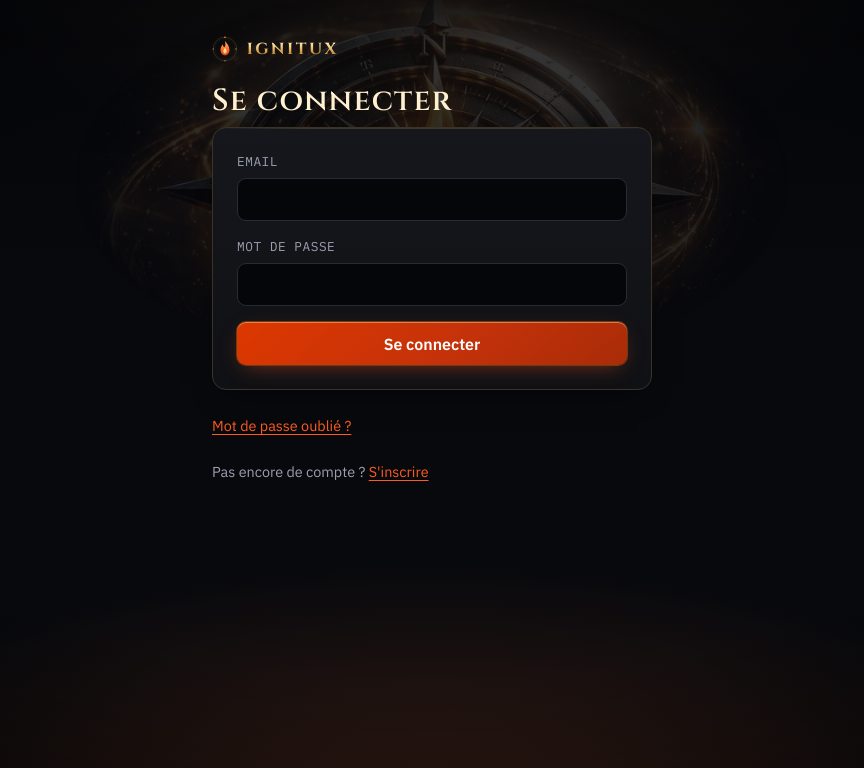
Scenario: LoginPage › affiche le message d'erreur du backend en cas d'échec
Type "a@b.com" into the field labelled "Email" at (432, 200), box [237, 178, 627, 221]
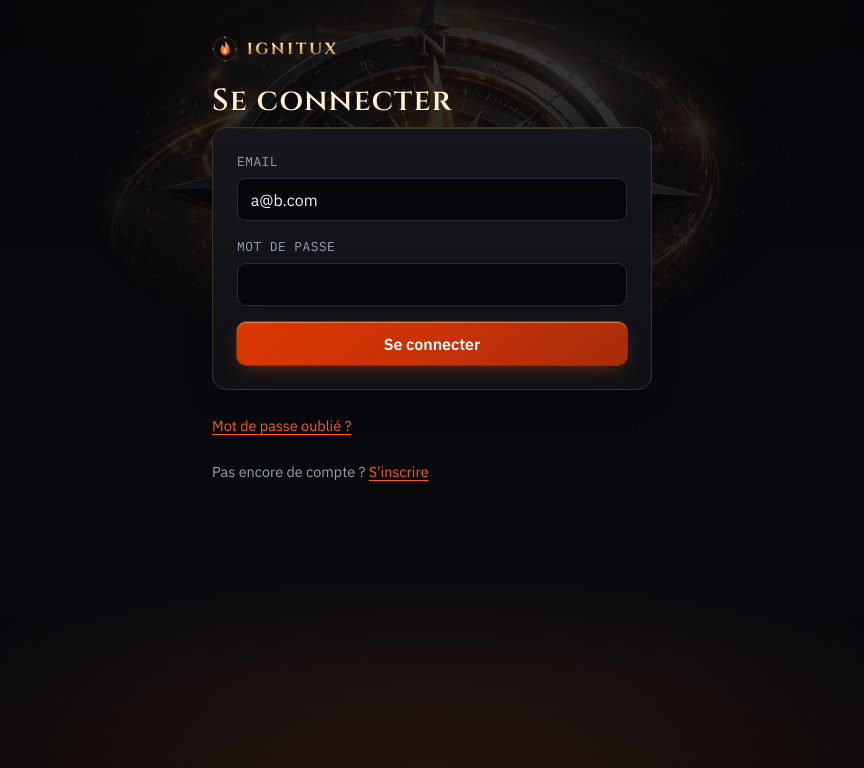
Type "mauvais" into the password field labelled "Mot de passe" at (432, 285), box [237, 263, 627, 306]
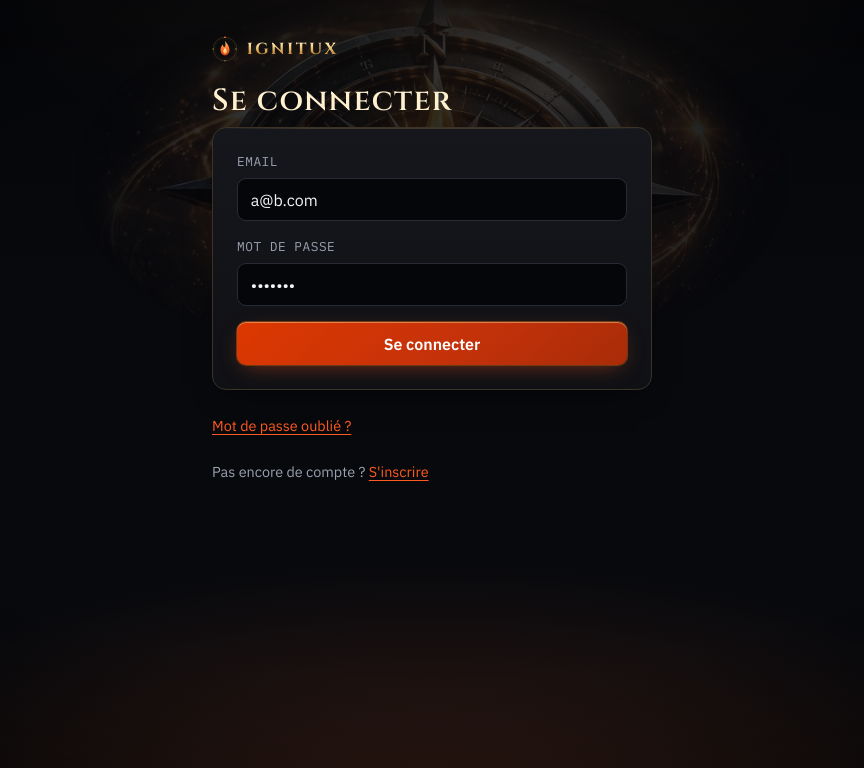
Click the button "Se connecter" at (432, 344), box [237, 322, 627, 365]
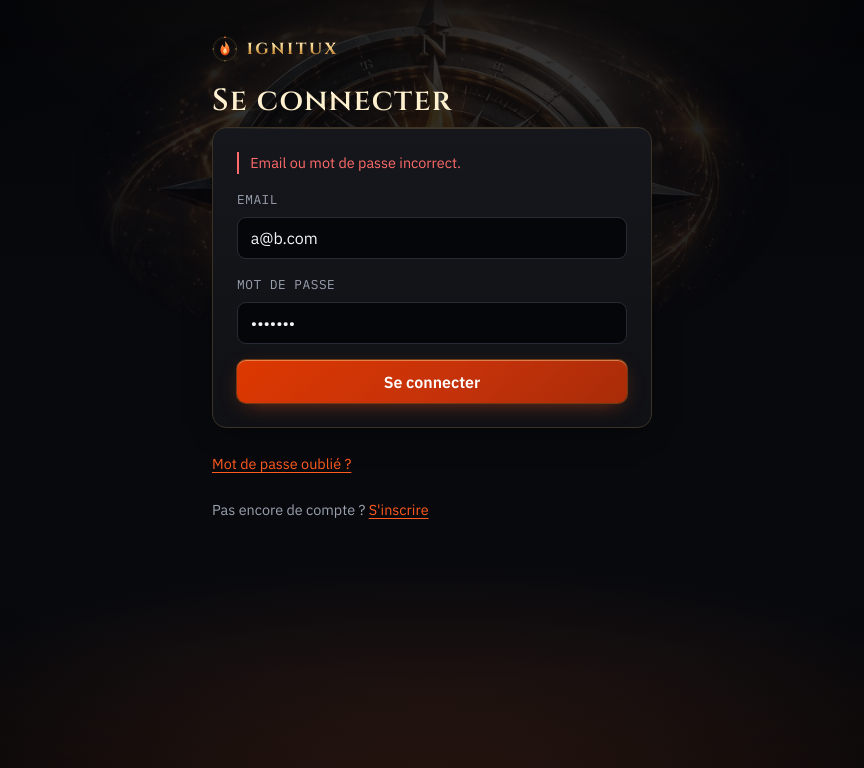
Expected: the text "Email ou mot de passe incorrect." is shown, [237, 152, 627, 174]
